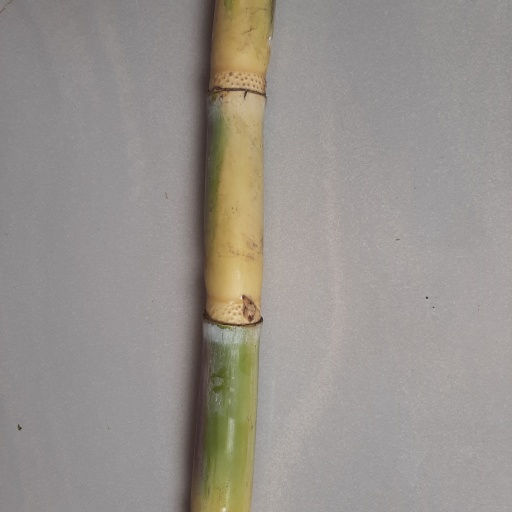Bud: (239, 291, 261, 325)
